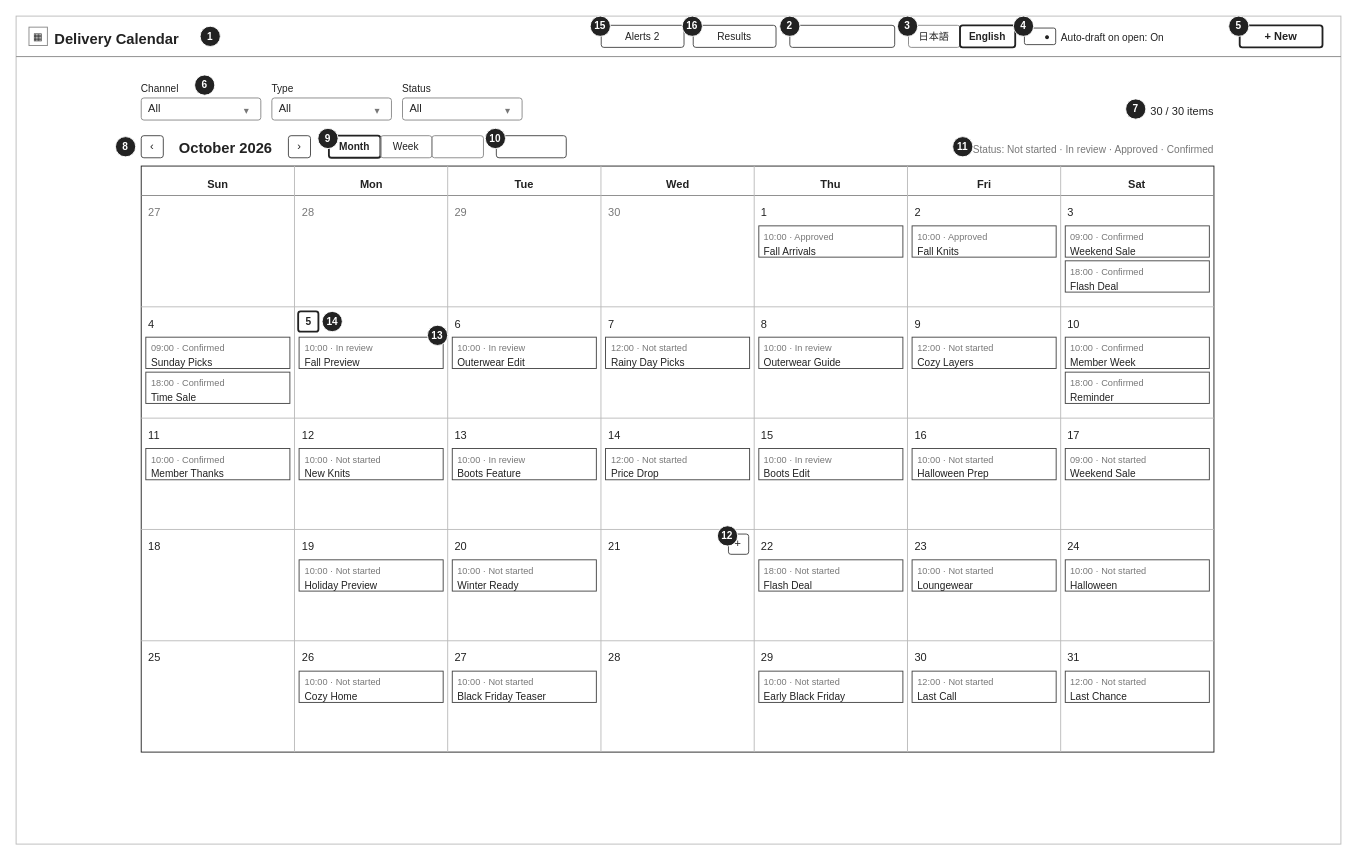
This 1358x860 diagram has some shape labels left out. Each missing label, with the box of its shape:
Export: (495, 135, 566, 158)
List: (431, 135, 483, 158)
Templates: (789, 24, 895, 47)
